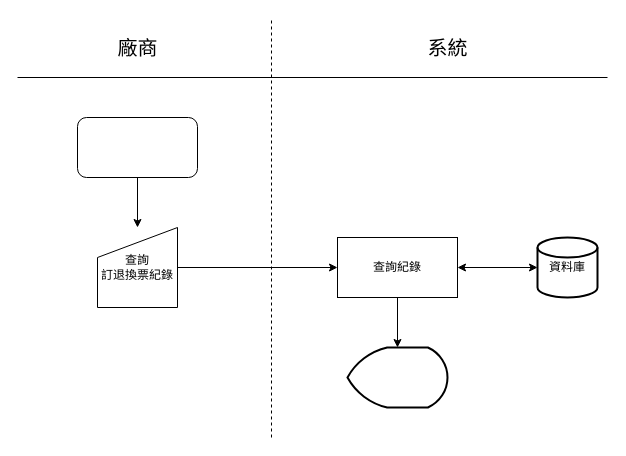
Image size: 626x456. Some labels were removed from this diagram. Here are the shapes that lost their labels. From the top down, the centre of each, then its label:
the point at 137,147: 開始查詢 訂退換票紀錄
the point at 397,377: 顯示 訂退換票紀錄
